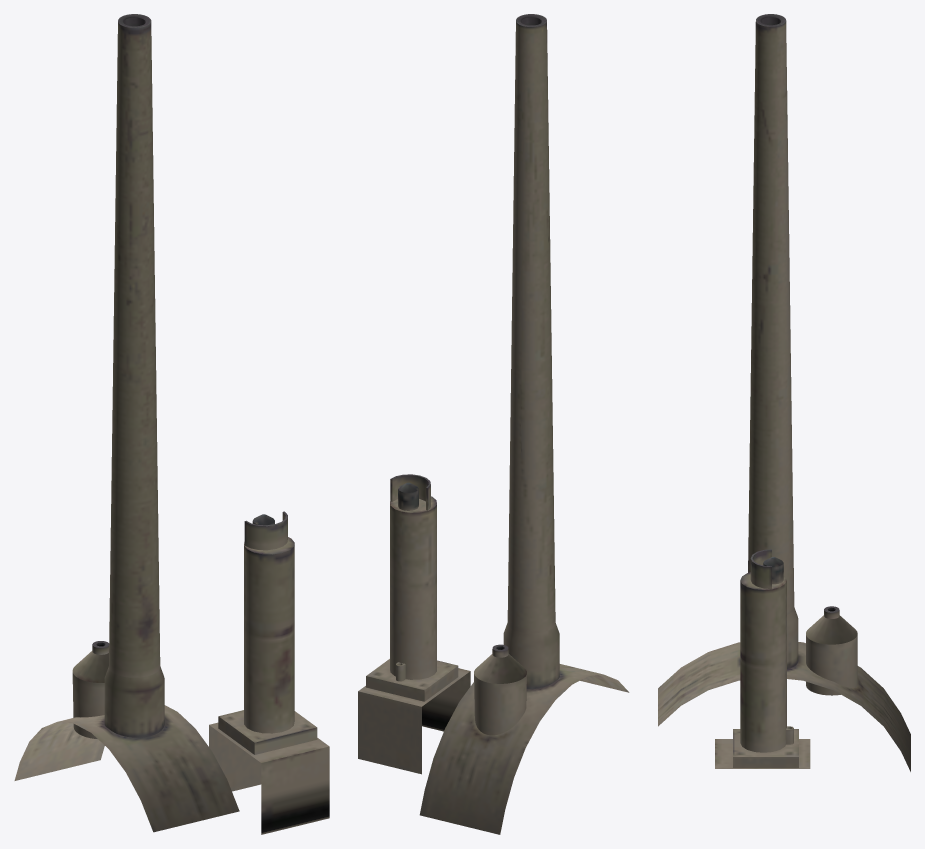
File: Gun_03.glb
3 views of the same model, side by side, from view 1: azimuth 30°, elevation 25°; view 2: azimuth 150°, elevation 25°; view 3: azimuth 270°, elevation 25° (orthographic). The views are drawn at different scales.
Parts seen in each view (by area): view 1: set_0_group_0; view 2: set_0_group_0; view 3: set_0_group_0.
Part boxes in pixels (x1,y1,x2,y2): set_0_group_0: [14, 14, 329, 834]; set_0_group_0: [358, 14, 629, 834]; set_0_group_0: [658, 14, 910, 771].
Bounding box in the file's own units: 0.5091 × 1.91 × 0.5905.
1 material, 1 textured.
